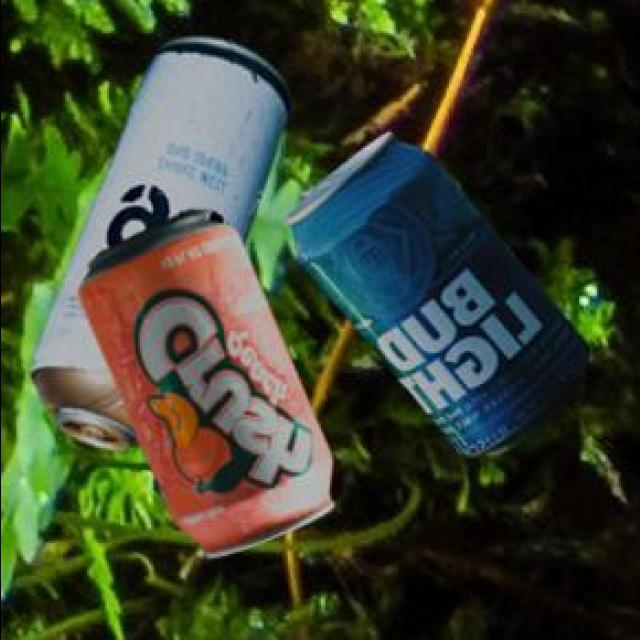logam: (25, 34, 286, 447), (281, 129, 586, 451), (74, 206, 330, 554)
